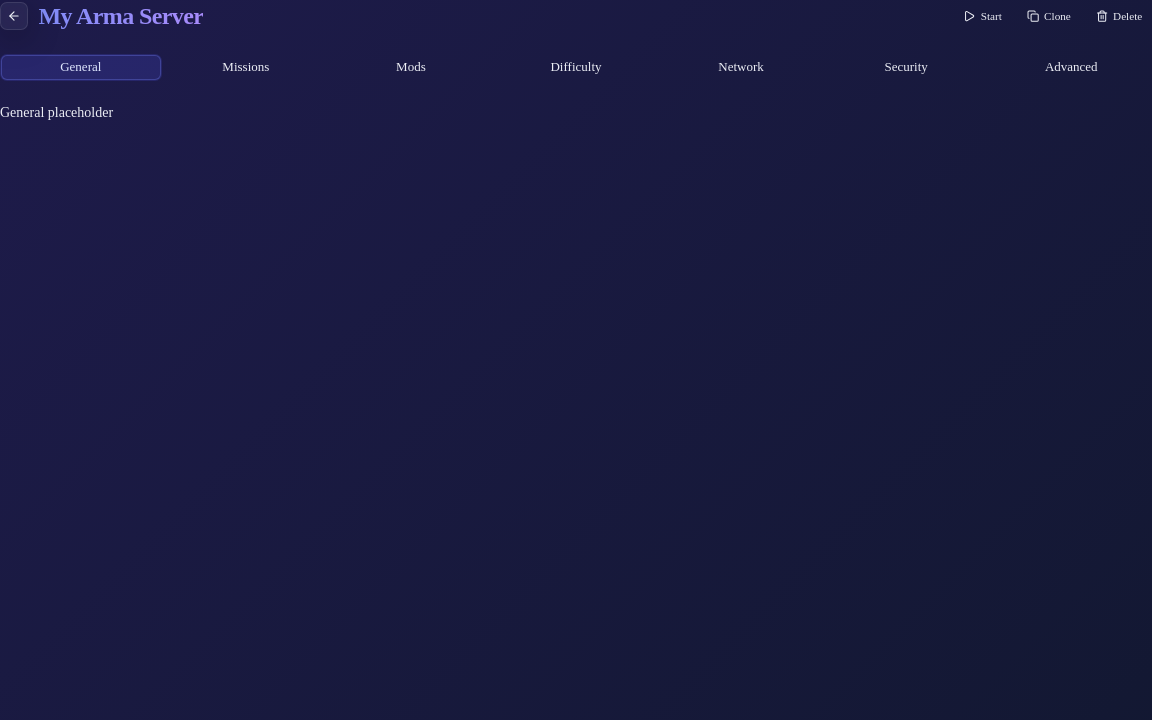
ServerDetailScreen › disables Delete confirm button when isDeleting is true
This screenshot has width=1152, height=720.
// The Delete trigger button should still be clickable to open the dialog
Click the button with aria-label "delete server" at (1119, 16), box top-left (1086, 4), bottom-right (1151, 28)
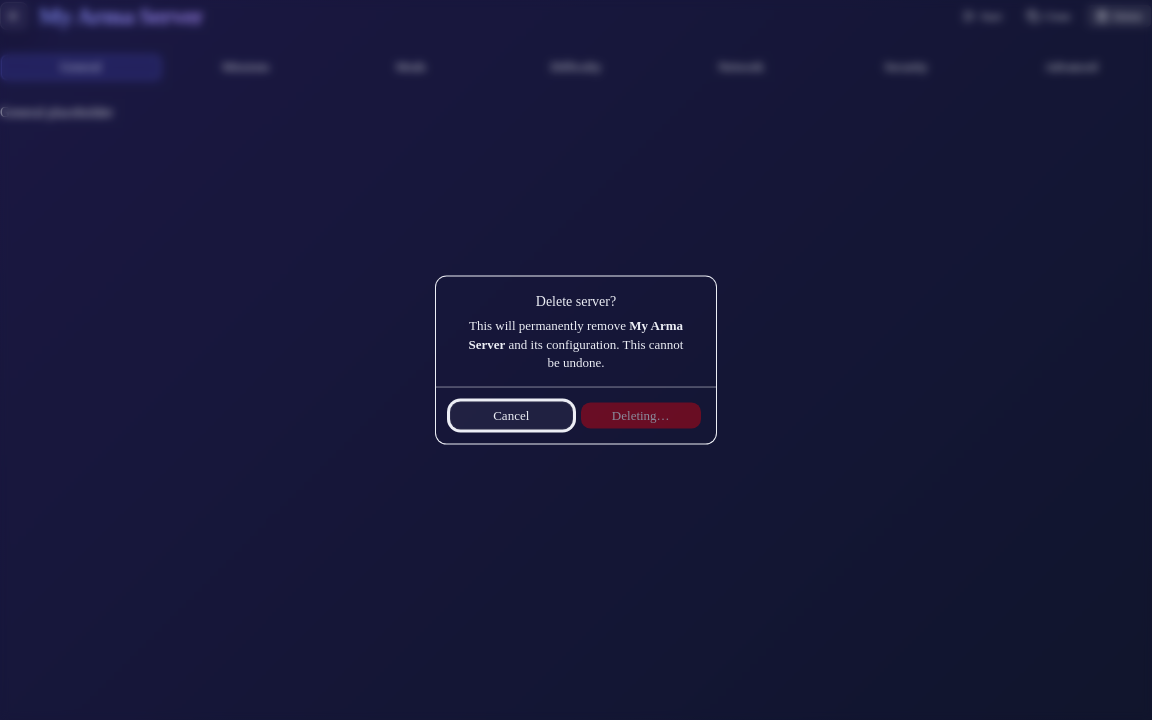
Expected: the heading "Delete server?" is shown, top-left (536, 290), bottom-right (616, 312)
Expected: the button "Deleting…" is disabled, top-left (580, 402), bottom-right (702, 430)
